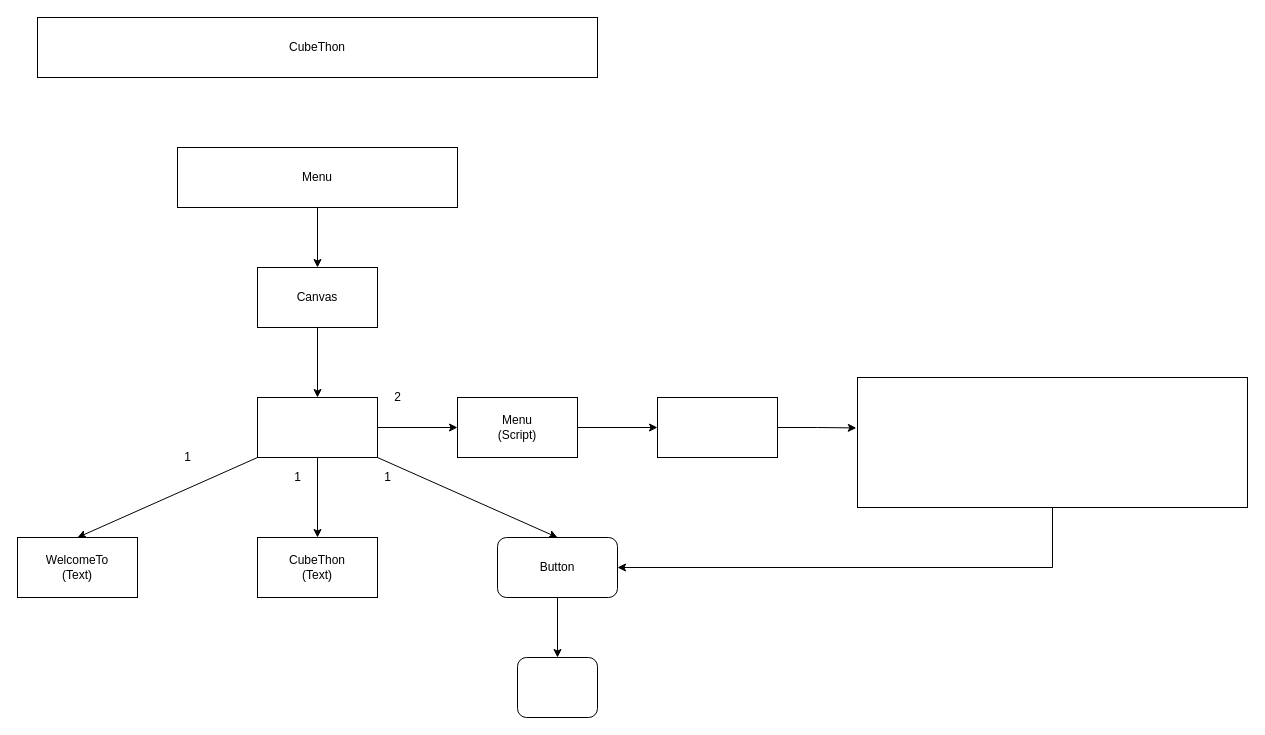
Image size: 1265x735. Some labels were removed from this diagram. The box of each missing label's shape, as (x1, y1, x2, y2) in pixels:
SceneManager.LoadScene(SceneManager.GetActiveScene().buildIndex + 1): (856, 376, 1248, 508)
Shadow: (516, 656, 598, 718)
StartGame(): (656, 396, 778, 458)
Welcome: (256, 396, 378, 458)
